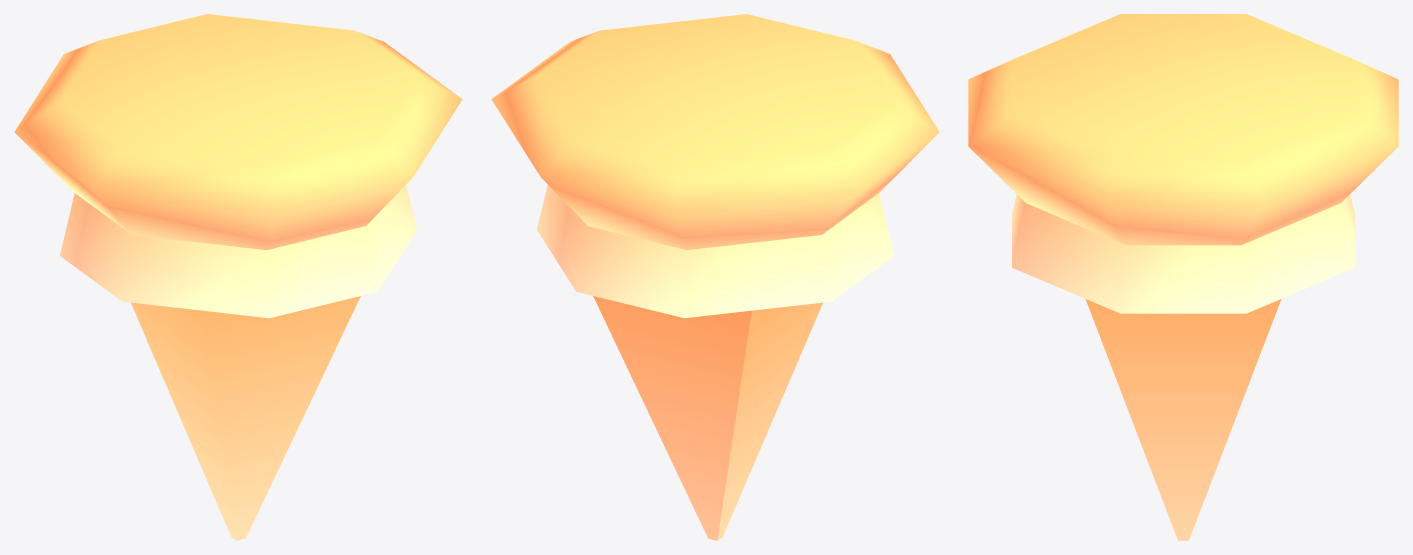
Rendered from wood_pommel_155_004.glb.
3 views of the same model, side by side, from view 1: azimuth 30°, elevation 25°; view 2: azimuth 150°, elevation 25°; view 3: azimuth 270°, elevation 25° (orthographic).
Parts seen in each view (by area): view 1: wood_pommel_155.004; view 2: wood_pommel_155.004; view 3: wood_pommel_155.004.
Part boxes in pixels (x1=…): wood_pommel_155.004: x1=14, y1=14, x2=462, y2=540; wood_pommel_155.004: x1=491, y1=14, x2=939, y2=540; wood_pommel_155.004: x1=968, y1=14, x2=1398, y2=540.
Bounding box in the file's own units: 1.7 × 1.97 × 1.7.
1 material, 1 textured.
